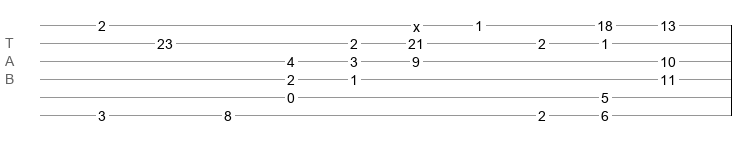0: (287, 90, 295, 100)
1: (350, 72, 358, 82), (475, 18, 483, 28), (601, 36, 609, 46)
10: (660, 54, 676, 64)
11: (660, 72, 676, 82)
13: (660, 18, 676, 28)
18: (597, 18, 613, 28)
2: (98, 18, 106, 28), (287, 72, 295, 82), (350, 36, 358, 46), (538, 108, 546, 118), (538, 36, 546, 46)
21: (408, 36, 424, 46)
23: (157, 36, 173, 46)
3: (98, 108, 106, 118), (350, 54, 358, 64)
4: (287, 54, 295, 64)
5: (601, 90, 609, 100)
6: (601, 108, 609, 118)
8: (224, 108, 232, 118)
9: (412, 54, 420, 64)
x: (413, 19, 420, 27)
